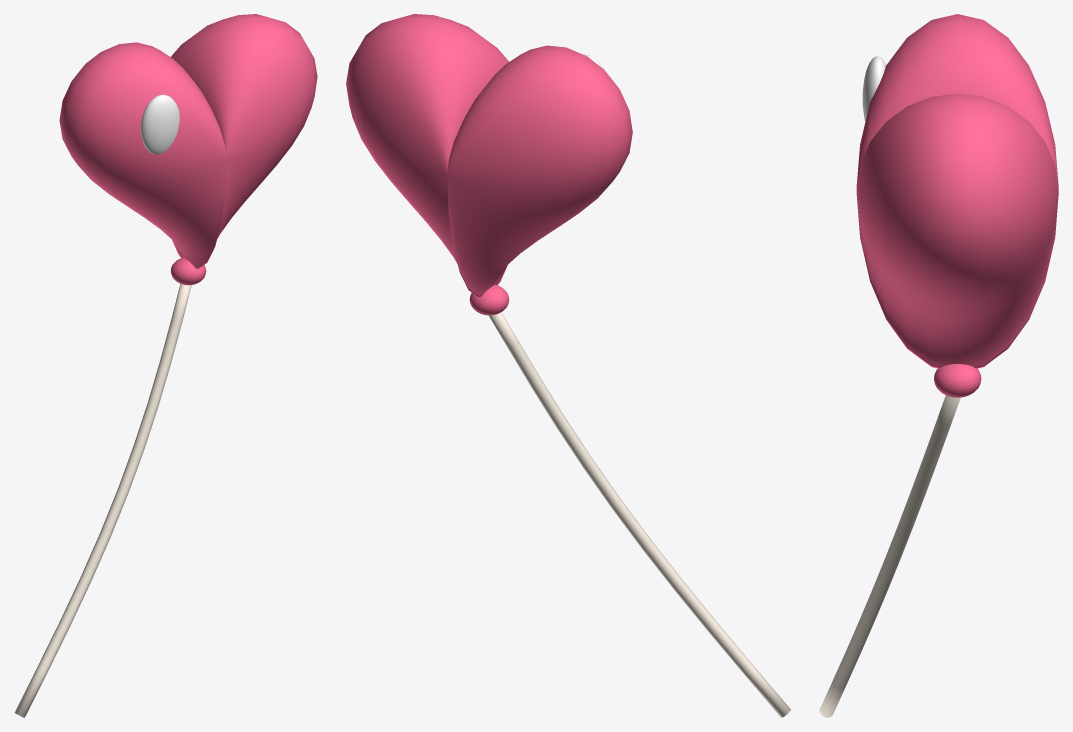
File: heart_balloon.fbx
3 views of the same model, side by side, from view 1: azimuth 30°, elevation 25°; view 2: azimuth 150°, elevation 25°; view 3: azimuth 270°, elevation 25° (orthographic). The views are drawn at different scales.
Visible parts, largest first — view 1: BalloonHeart, BalloonString, BalloonShine, BalloonKnot; view 2: BalloonHeart, BalloonString, BalloonKnot; view 3: BalloonHeart, BalloonString, BalloonKnot, BalloonShine.
Part boxes in pixels (x1=…): BalloonHeart: x1=59, y1=14, x2=317, y2=269; BalloonString: x1=14, y1=284, x2=191, y2=717; BalloonShine: x1=140, y1=94, x2=179, y2=154; BalloonKnot: x1=170, y1=257, x2=206, y2=285; BalloonHeart: x1=346, y1=14, x2=632, y2=297; BalloonString: x1=489, y1=312, x2=790, y2=717; BalloonKnot: x1=469, y1=284, x2=509, y2=315; BalloonHeart: x1=856, y1=14, x2=1058, y2=368; BalloonString: x1=819, y1=395, x2=960, y2=717; BalloonKnot: x1=934, y1=364, x2=981, y2=397; BalloonShine: x1=862, y1=56, x2=886, y2=121.
Bounding box in the file's own units: 8.95 × 14.77 × 4.03.
